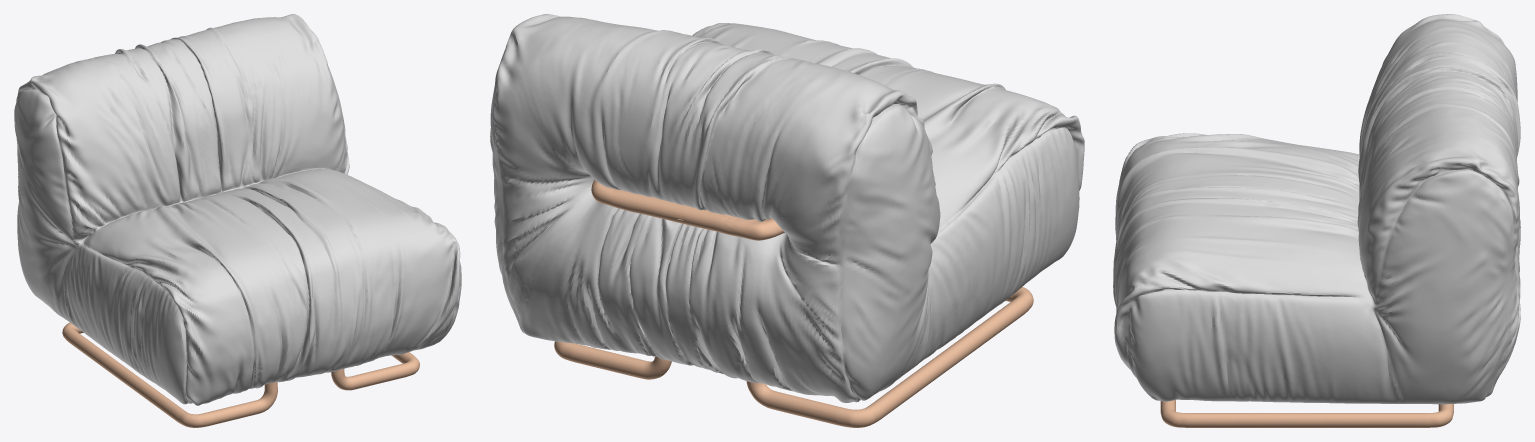
The model's file is SLN_Rollo_2.glb.
The picture shows the model from 3 angles, left to right: view 1: azimuth 30°, elevation 25°; view 2: azimuth 150°, elevation 25°; view 3: azimuth 270°, elevation 25°; orthographic projection. The views are drawn at different scales.
Parts seen in each view (by area): view 1: Rollo 2; view 2: Rollo 2; view 3: Rollo 2.
Boxes of the visible parts, left/top/right/bottom form: Rollo 2: left=14, top=14, right=461, bottom=427; Rollo 2: left=490, top=14, right=1084, bottom=427; Rollo 2: left=1113, top=14, right=1520, bottom=427.
Bounding box in the file's own units: 0.9202 × 0.7557 × 0.9715.
